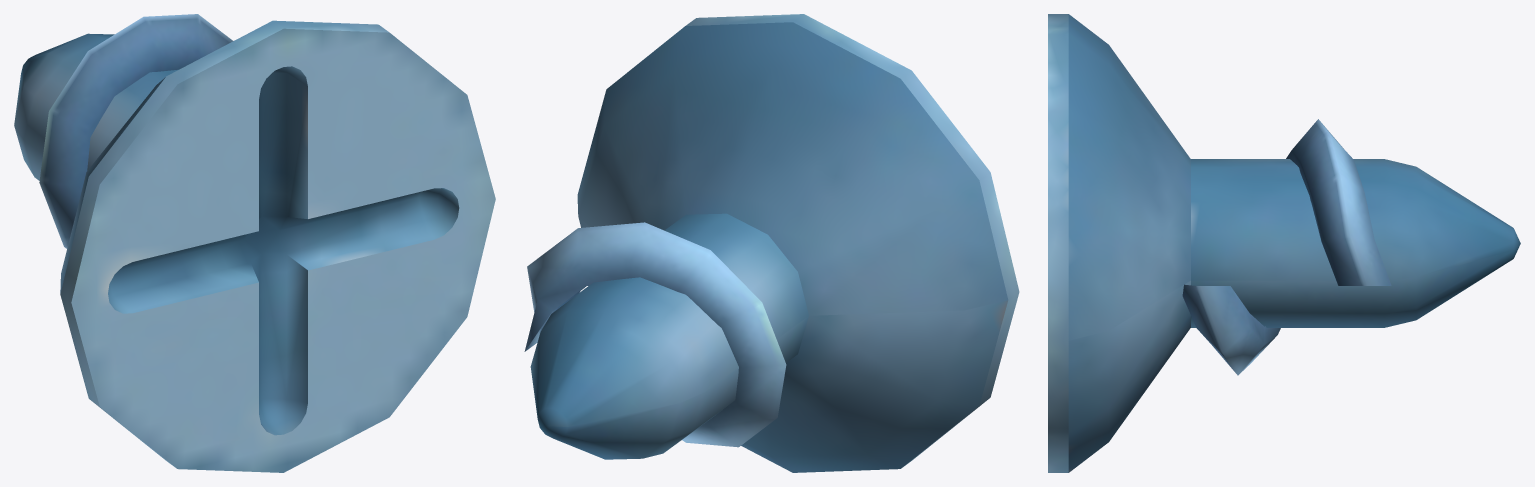
Rendered from luosi02.FBX.
3 renders of one model, left to right at view 1: azimuth 30°, elevation 25°; view 2: azimuth 150°, elevation 25°; view 3: azimuth 270°, elevation 25°, orthographic. The views are drawn at different scales.
Parts seen in each view (by area): view 1: luosi02; view 2: luosi02; view 3: luosi02.
Boxes of the visible parts, x1,y1,x2,y2 form: luosi02: (14,14,495,472); luosi02: (524,14,1019,472); luosi02: (1048,14,1520,472).
Bounding box in the file's own units: 6.25 × 6.25 × 6.41.
